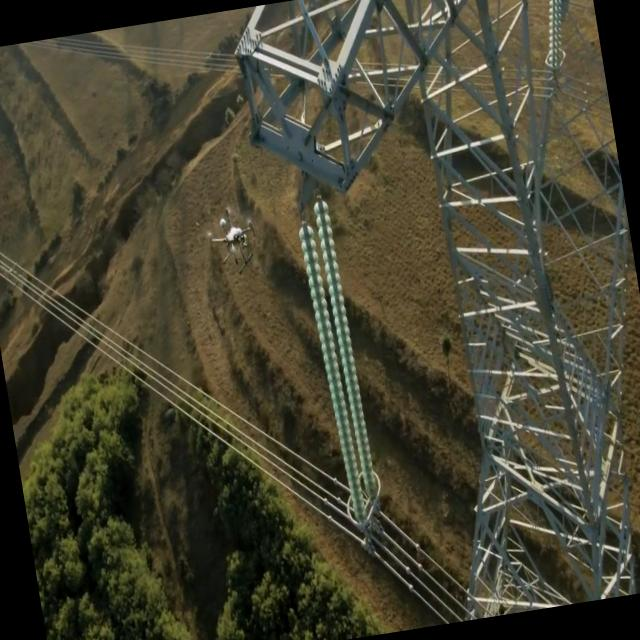drone: (202, 198, 264, 280)
